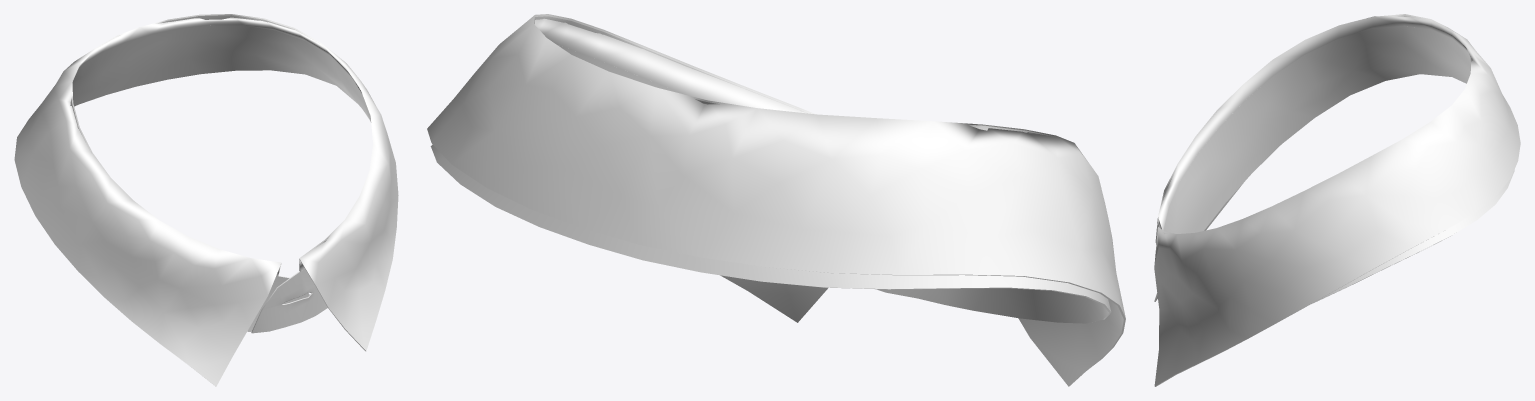
The model's file is cutway-1.glb.
3 views of the same model, side by side, from view 1: azimuth 30°, elevation 25°; view 2: azimuth 150°, elevation 25°; view 3: azimuth 270°, elevation 25° (orthographic). The views are drawn at different scales.
Visible parts, largest first — view 1: Collar_Node, Collar_Stand_Node; view 2: Collar_Node, Collar_Stand_Node; view 3: Collar_Node, Collar_Stand_Node.
Boxes of the visible parts, x1=… form: Collar_Node: x1=14, y1=14, x2=398, y2=386; Collar_Stand_Node: x1=72, y1=25, x2=371, y2=333; Collar_Node: x1=427, y1=14, x2=1125, y2=386; Collar_Stand_Node: x1=430, y1=45, x2=1111, y2=323; Collar_Node: x1=1154, y1=14, x2=1520, y2=386; Collar_Stand_Node: x1=1163, y1=25, x2=1514, y2=303.
Bounding box in the file's own units: 0.1672 × 0.1119 × 0.1323.
Materials: 2 (2 with a texture image).
